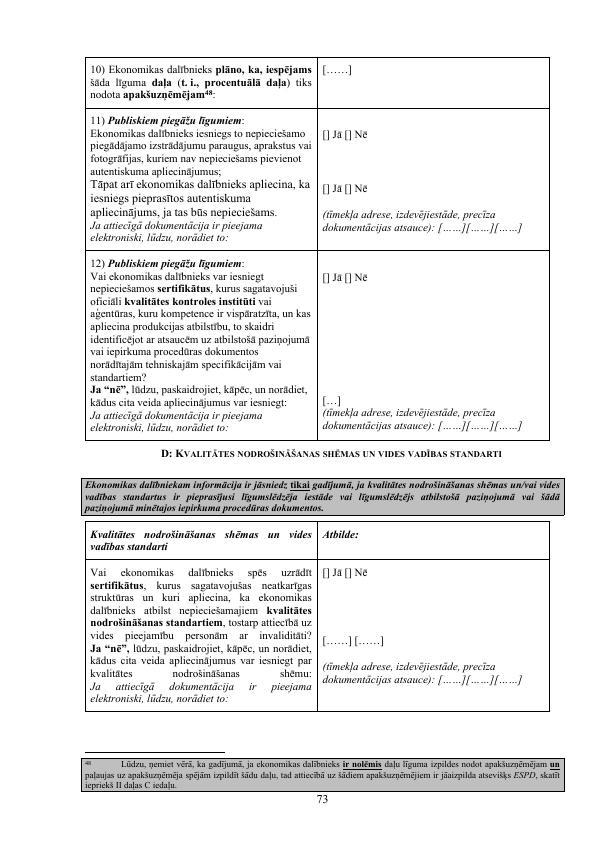table: (83, 54, 552, 444), (82, 519, 556, 717)
text: (78, 474, 564, 513), (82, 758, 565, 791), (155, 447, 508, 463)
